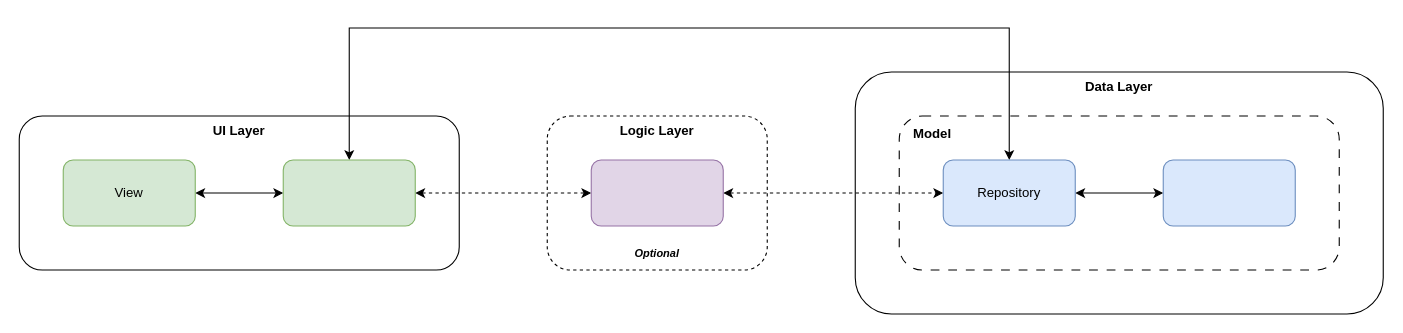
This 1403x333 diagram has some shape labels left out. The shapes that lost their labels are listed below. From the top down, each one's centre as x and y in pixels, then its label:
(348,192): ViewModel
(656,192): UseCase
(1228,192): Service
